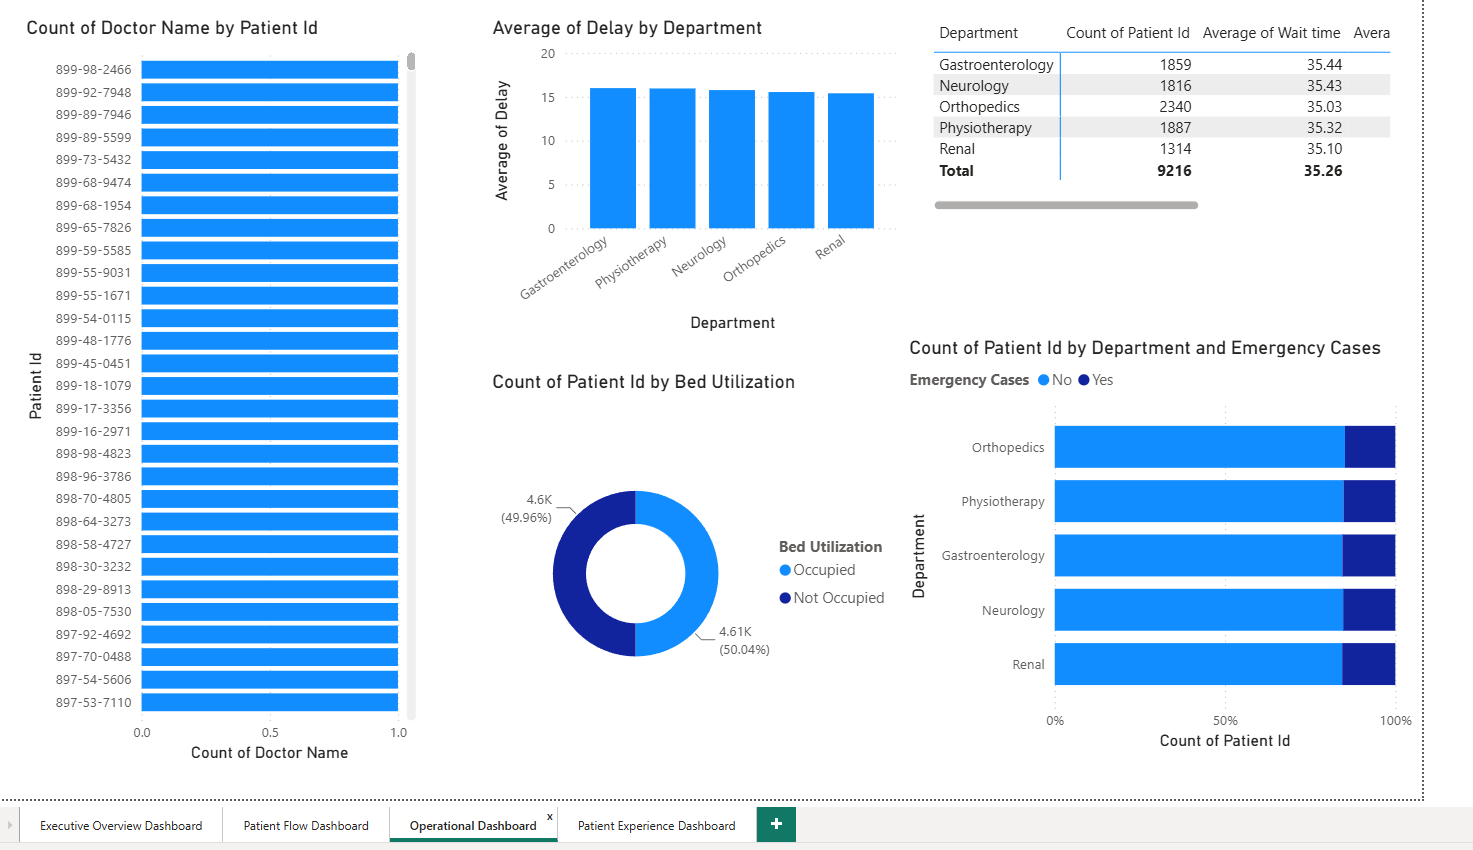

The page's visual inventory and layout, read from the dashboard file:
{"tool":"powerbi","page":{"name":"Operational Dashboard","canvas":[1280,720],"ordinal":2},"visuals":[{"type":"clusteredBarChart","fields":{"Y":["CountNonNull(hospital3.Doctor Name)"],"Category":["hospital3.Patient Id"]},"box":[25.7,18.6,358.6,672.9],"z":0},{"type":"clusteredColumnChart","fields":{"Category":["hospital3.Department"],"Y":["Avg(hospital3.Delay)"]},"box":[442.9,18.6,374.3,287.1],"z":1000},{"type":"donutChart","fields":{"Category":["hospital3.Bed Utilization"],"Y":["CountNonNull(hospital3.Patient Id)"]},"box":[442.9,335.7,374.3,345.7],"z":2000},{"type":"pivotTable","fields":{"Rows":["hospital3.Department"],"Values":["CountNonNull(hospital3.Patient Id)","Avg(hospital3.Wait time)","Avg(hospital3.Satisfaction)","Sum(hospital3.Total Bill)"]},"box":[838.6,18.6,418.6,178.6],"z":3000},{"type":"hundredPercentStackedBarChart","fields":{"Category":["hospital3.Department"],"Series":["hospital3.Emergency Cases"],"Y":["CountNonNull(hospital3.Patient Id)"]},"box":[817.1,305.7,460,375.7],"z":3001}]}

Visuals, with their boxes on the page's 1280x720 design canvas (x1, y1, x2, y2). These are canvas units, not pixel positions in the 1473x850 screenshot, which may show the page scaled, cropped or inside an application window:
clusteredBarChart - CountNonNull(hospital3.Doctor Name) x hospital3.Patient Id: 26, 19, 384, 692
clusteredColumnChart - hospital3.Department x Avg(hospital3.Delay): 443, 19, 817, 306
donutChart - hospital3.Bed Utilization x CountNonNull(hospital3.Patient Id): 443, 336, 817, 681
pivotTable - hospital3.Department x CountNonNull(hospital3.Patient Id): 839, 19, 1257, 197
hundredPercentStackedBarChart - hospital3.Department x hospital3.Emergency Cases: 817, 306, 1277, 681
